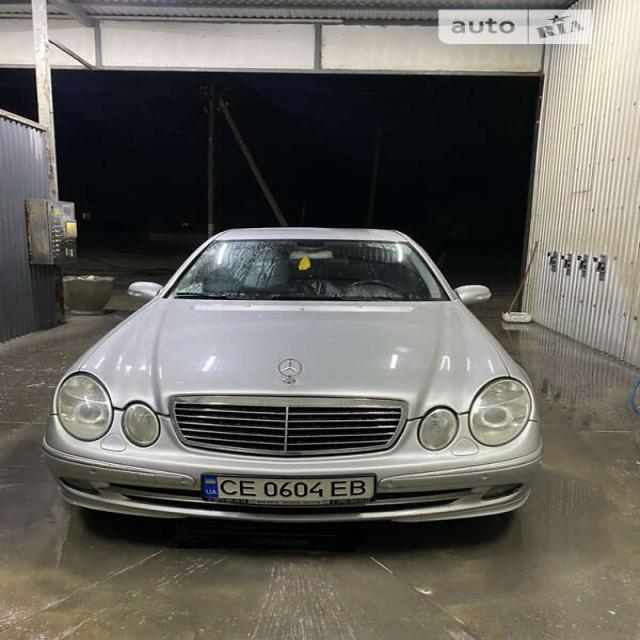plate: (193, 462, 383, 507)
